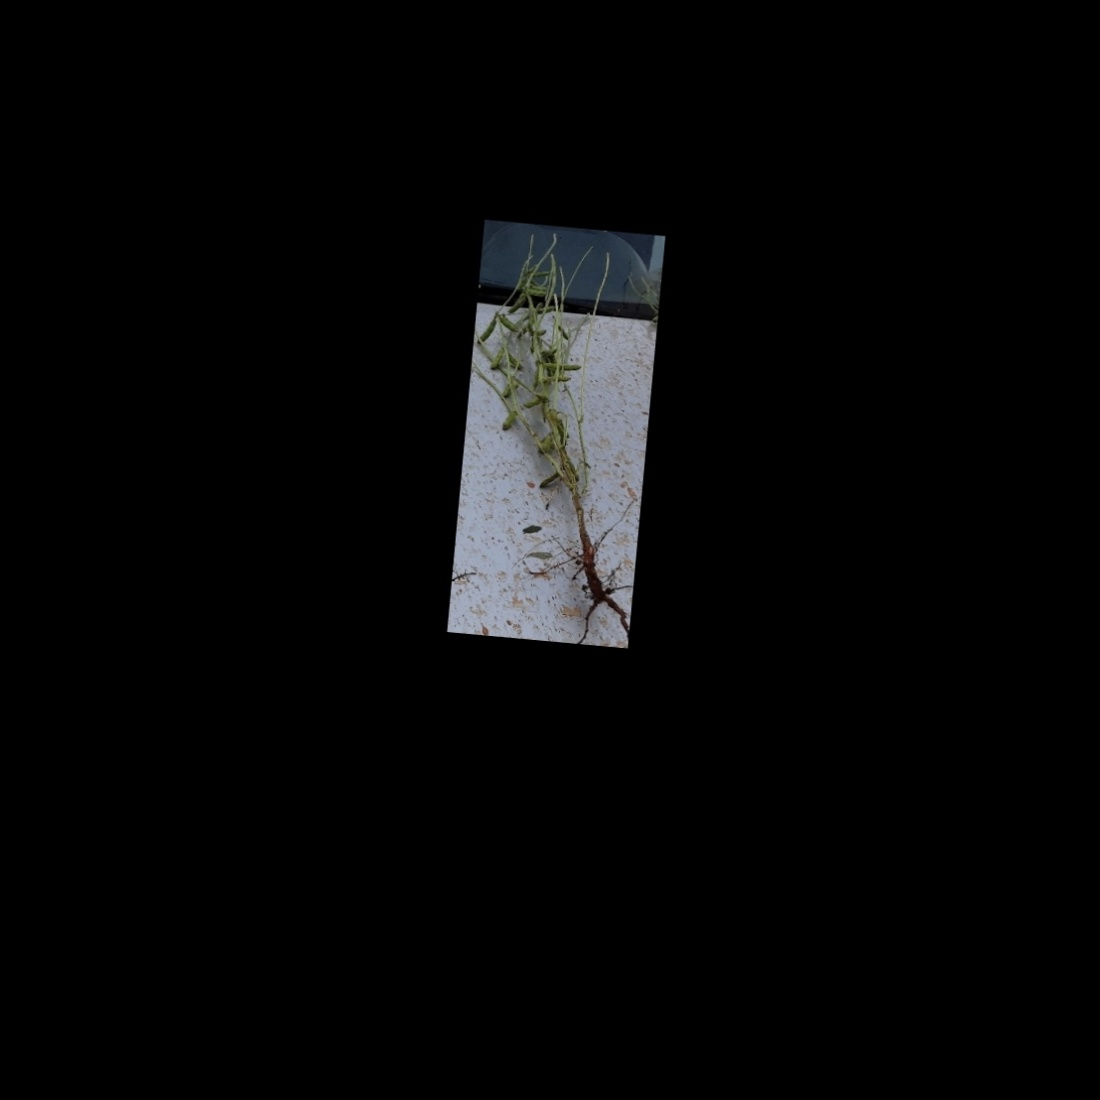pod: (533, 469, 561, 493), (494, 311, 523, 333), (477, 314, 498, 346), (487, 342, 506, 375), (500, 409, 517, 433), (522, 287, 548, 299)
soy: (452, 231, 659, 627)
